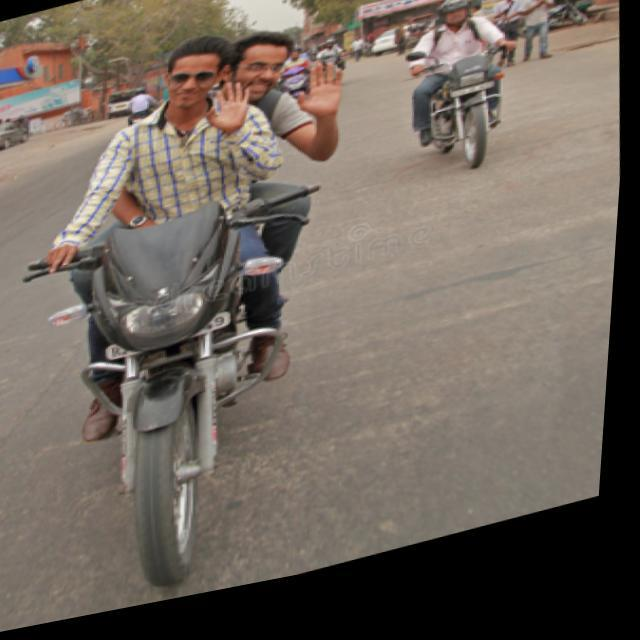Nonhelmet: (153, 27, 243, 121), (220, 28, 299, 108)
